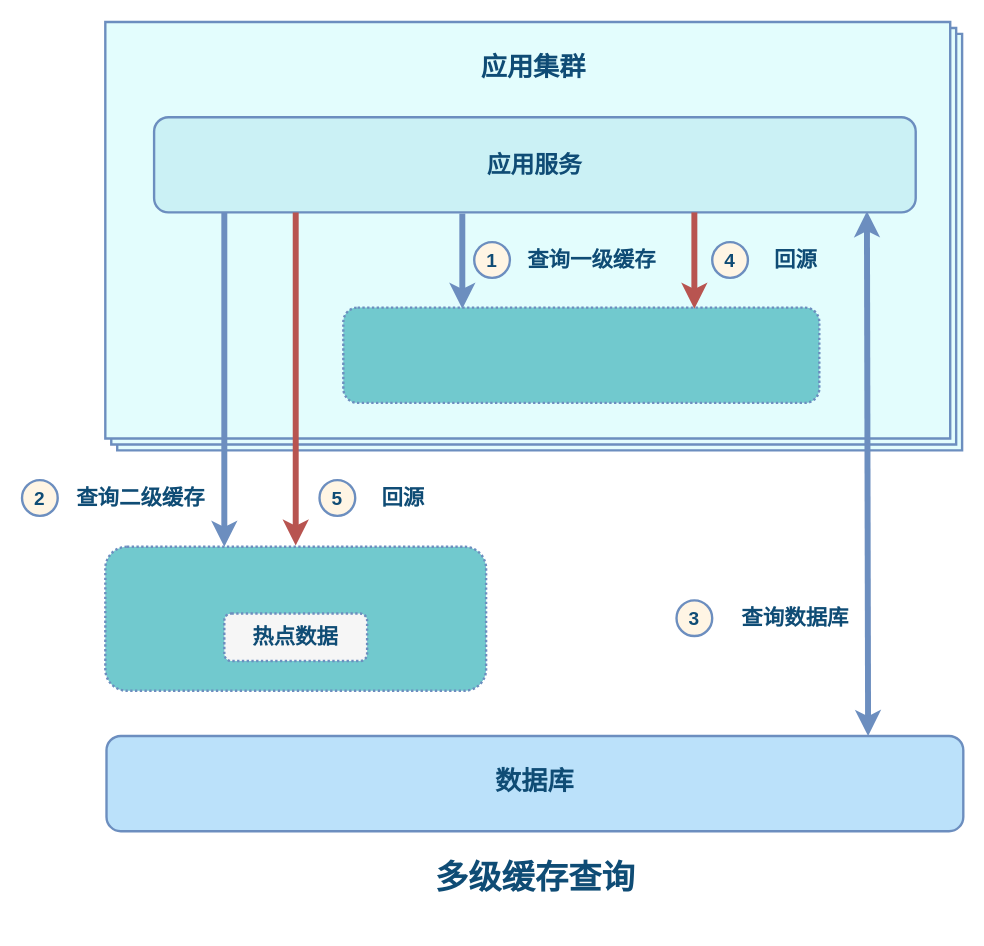
Some shapes in this 984 by 946 pixel diagram are drawn without their labels. The shapes that lost their labels are listed below. From the top down, each one's box as (x1, y1, x2, y2) in pixels, then its label:
(342, 306, 820, 403): 进程内缓存 （Caffeine/Ehcache/HashMap）
(104, 545, 487, 691): 分布式缓存（Redis）
